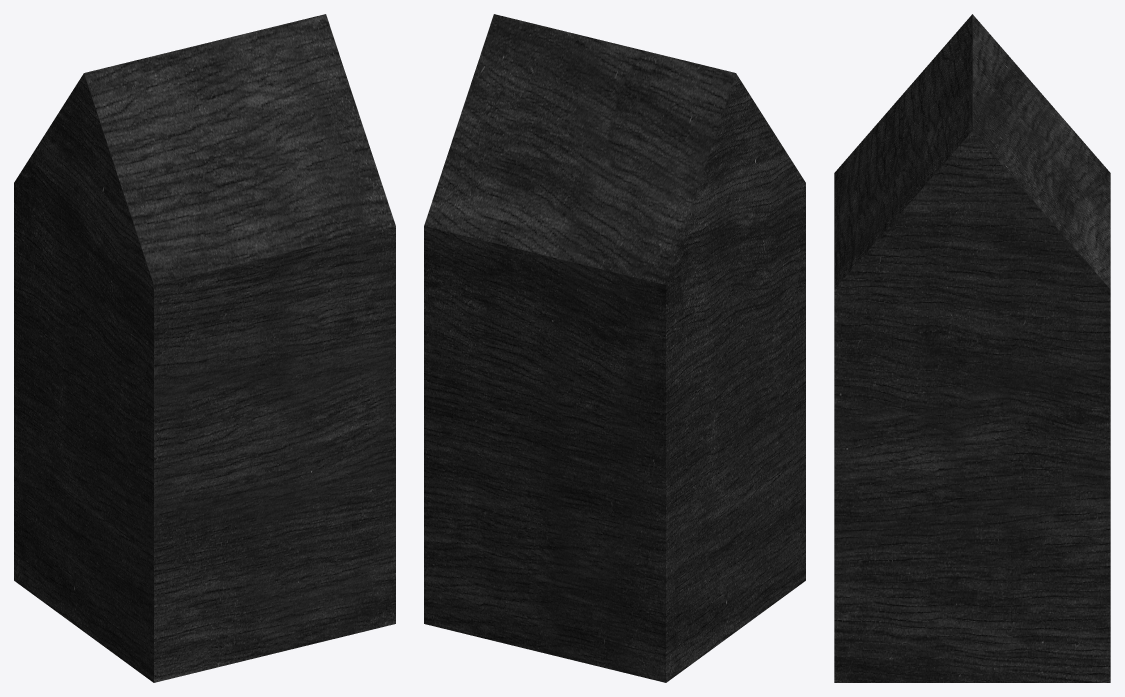
Rendered from bishop_b.obj.
The picture shows the model from 3 angles, left to right: view 1: azimuth 30°, elevation 25°; view 2: azimuth 150°, elevation 25°; view 3: azimuth 270°, elevation 25°; orthographic projection.
Visible parts, largest first — view 1: bishop; view 2: bishop; view 3: bishop.
Boxes of the visible parts, x1,y1,x2,y2 form: bishop: (14,14,395,682); bishop: (424,14,805,682); bishop: (834,14,1110,682).
Size of the model in its own units: 1.27 by 2.81 by 1.27.
